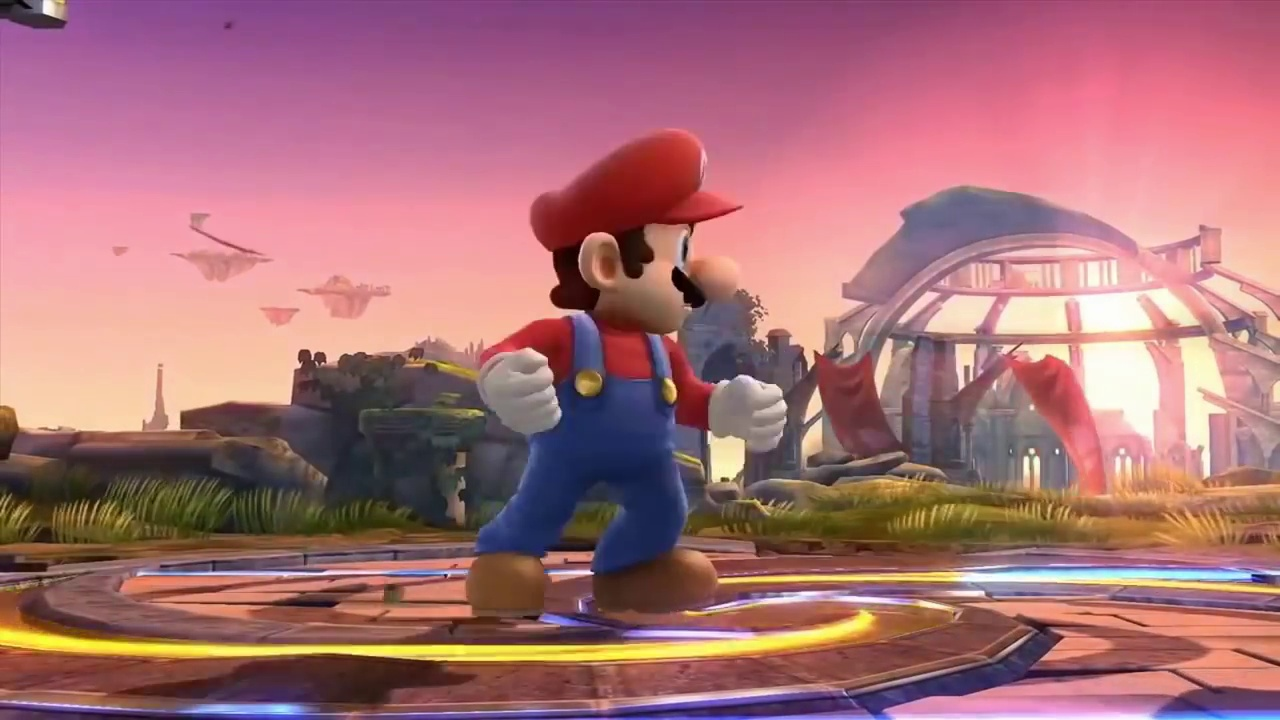Mario: (468, 129, 787, 614)
